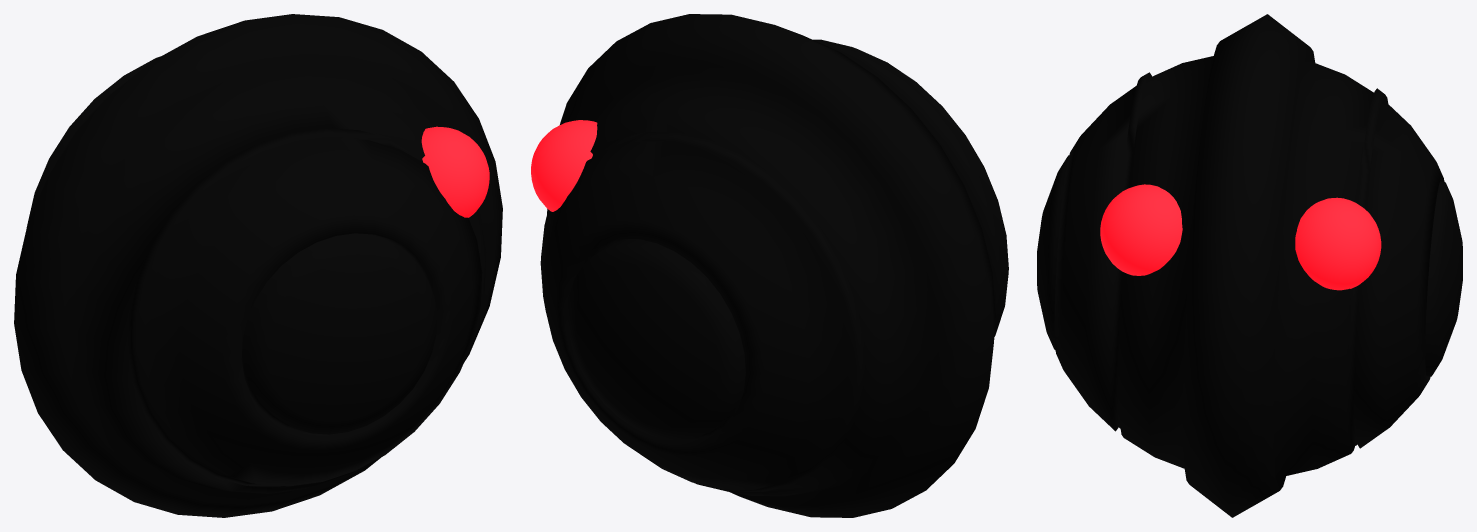
The model's file is Rounded_creature.fbx.
3 renders of one model, left to right at view 1: azimuth 30°, elevation 25°; view 2: azimuth 150°, elevation 25°; view 3: azimuth 270°, elevation 25°, orthographic. The views are drawn at different scales.
Visible parts, largest first — view 1: Rounded_body, Sphere.002; view 2: Rounded_body, Sphere.001; view 3: Rounded_body, Sphere.001, Sphere.002.
Part boxes in pixels (bbox=[...]): Rounded_body: bbox=[14, 14, 502, 517]; Sphere.002: bbox=[421, 126, 489, 217]; Rounded_body: bbox=[540, 14, 1008, 517]; Sphere.001: bbox=[531, 120, 597, 211]; Rounded_body: bbox=[1037, 14, 1462, 517]; Sphere.001: bbox=[1295, 197, 1381, 290]; Sphere.002: bbox=[1100, 184, 1182, 275].
Size of the model in its own units: 517 by 519 by 438.
